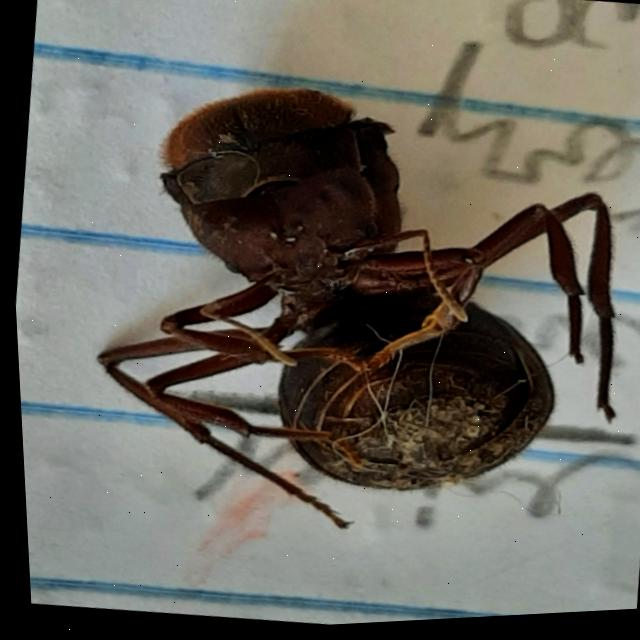Dead-Female-Dealate: (60, 52, 640, 577)
